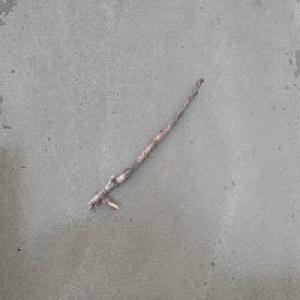Wood: (85, 75, 205, 211)
